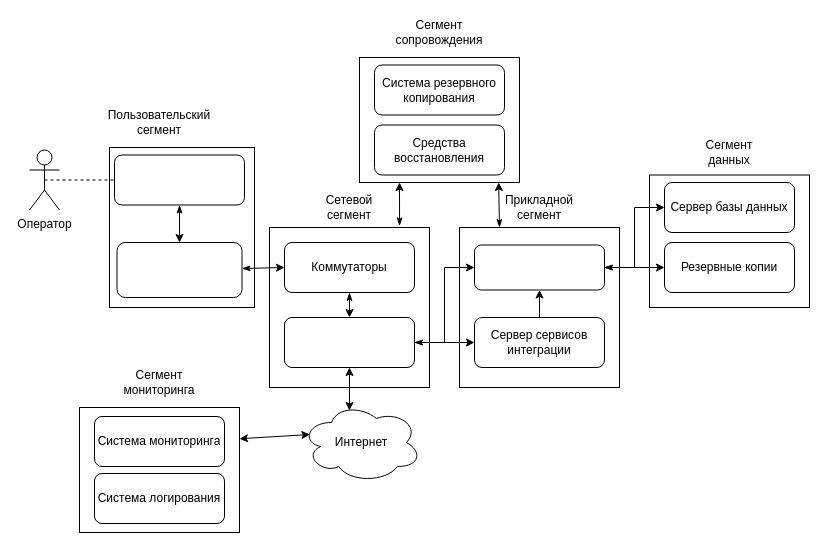
This 827x550 diagram has some shape labels left out. The centre of each missing label's shape, as x and y in pixels:
Автоматизированные места операторов: point (179, 179)
Маршрутизатор: point (349, 342)
Сервер приложения: point (539, 267)
Терминалы сбора данных: point (179, 270)
